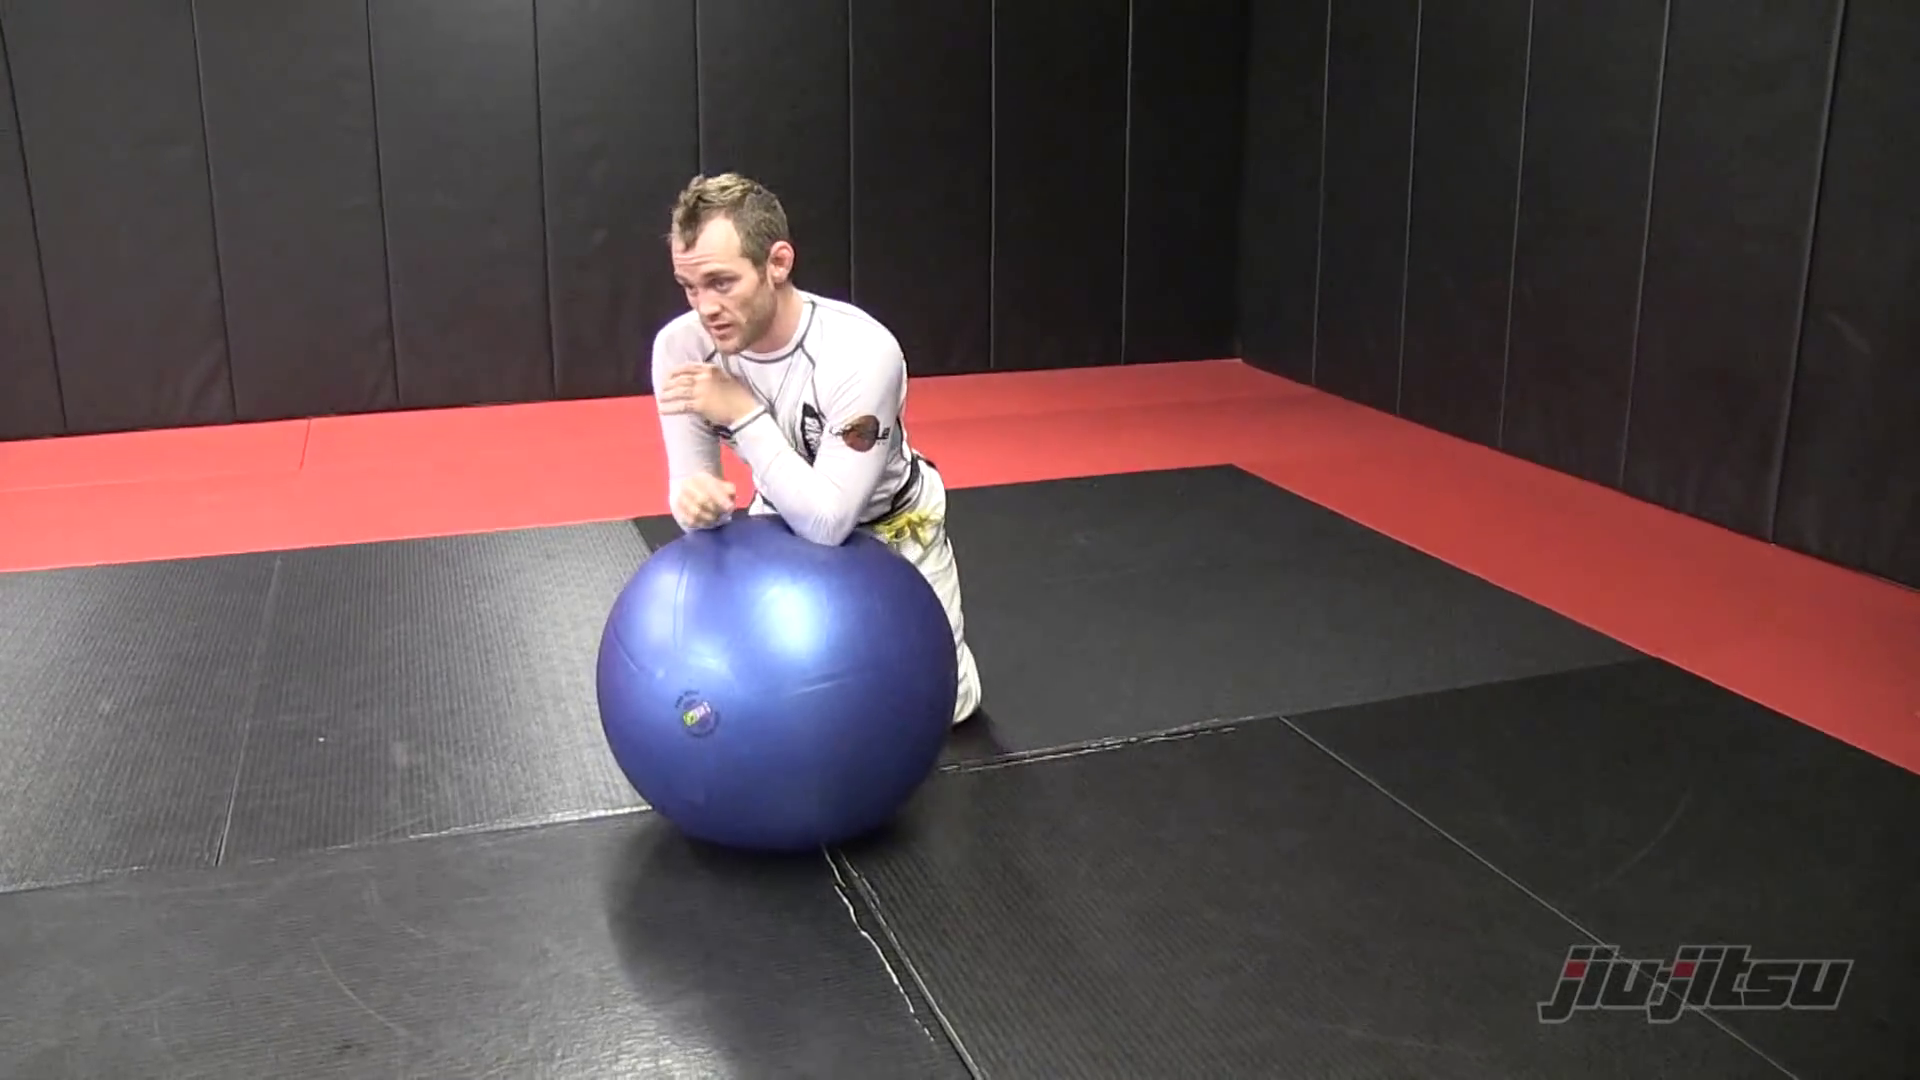yogaball: (587, 505, 968, 876)
